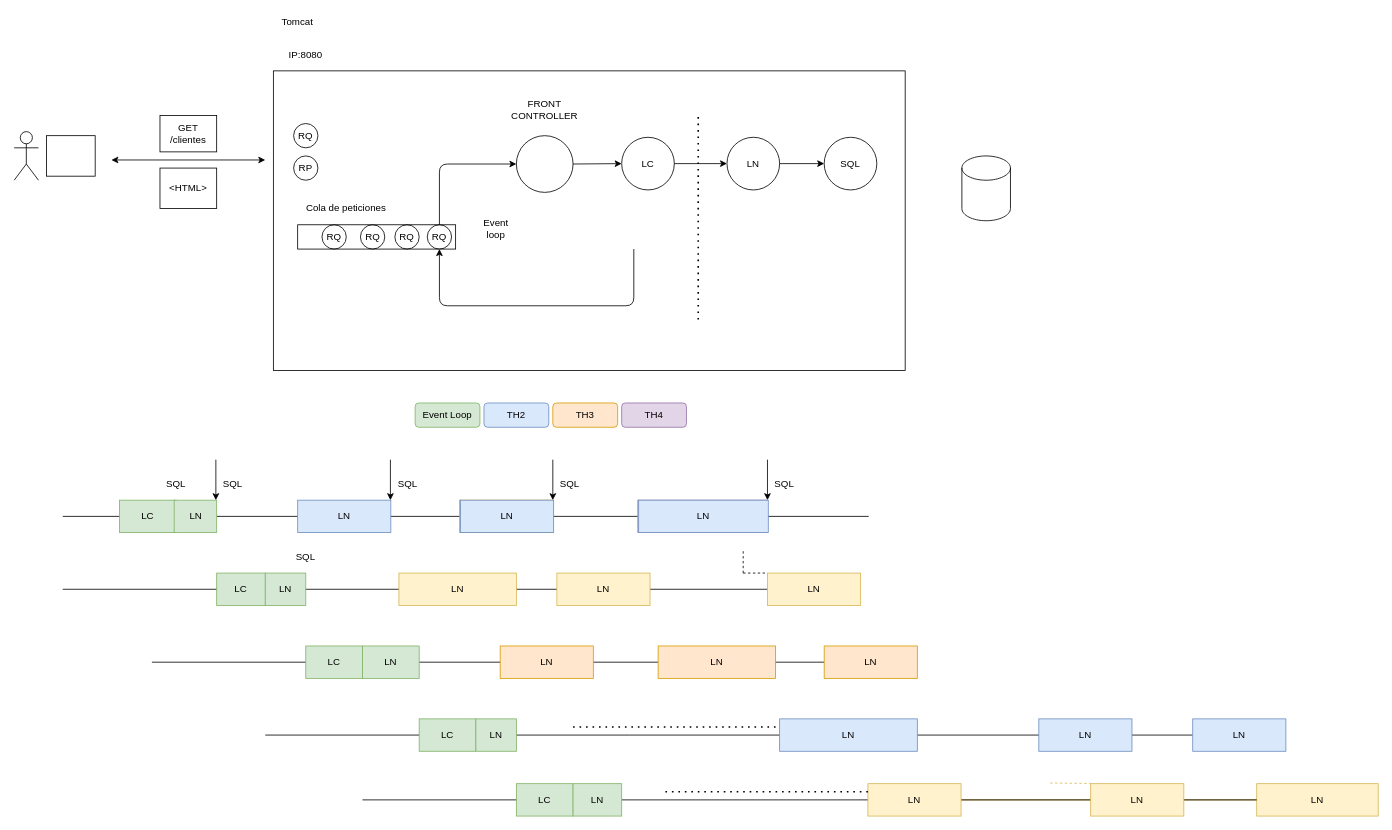
Some shapes in this 1392 by 830 pixel diagram are drawn without their labels. Each missing label, with the centre of its shape:
"Actor" goes at [25,155].
"Dispatcher Handler" goes at [544,163].
